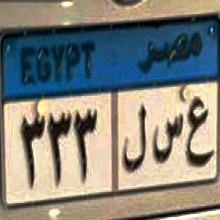3: (19, 115, 46, 189), (74, 109, 102, 180), (48, 110, 72, 184)
ain: (186, 94, 212, 164)
laam: (122, 106, 146, 170)
seen: (150, 112, 186, 165)
